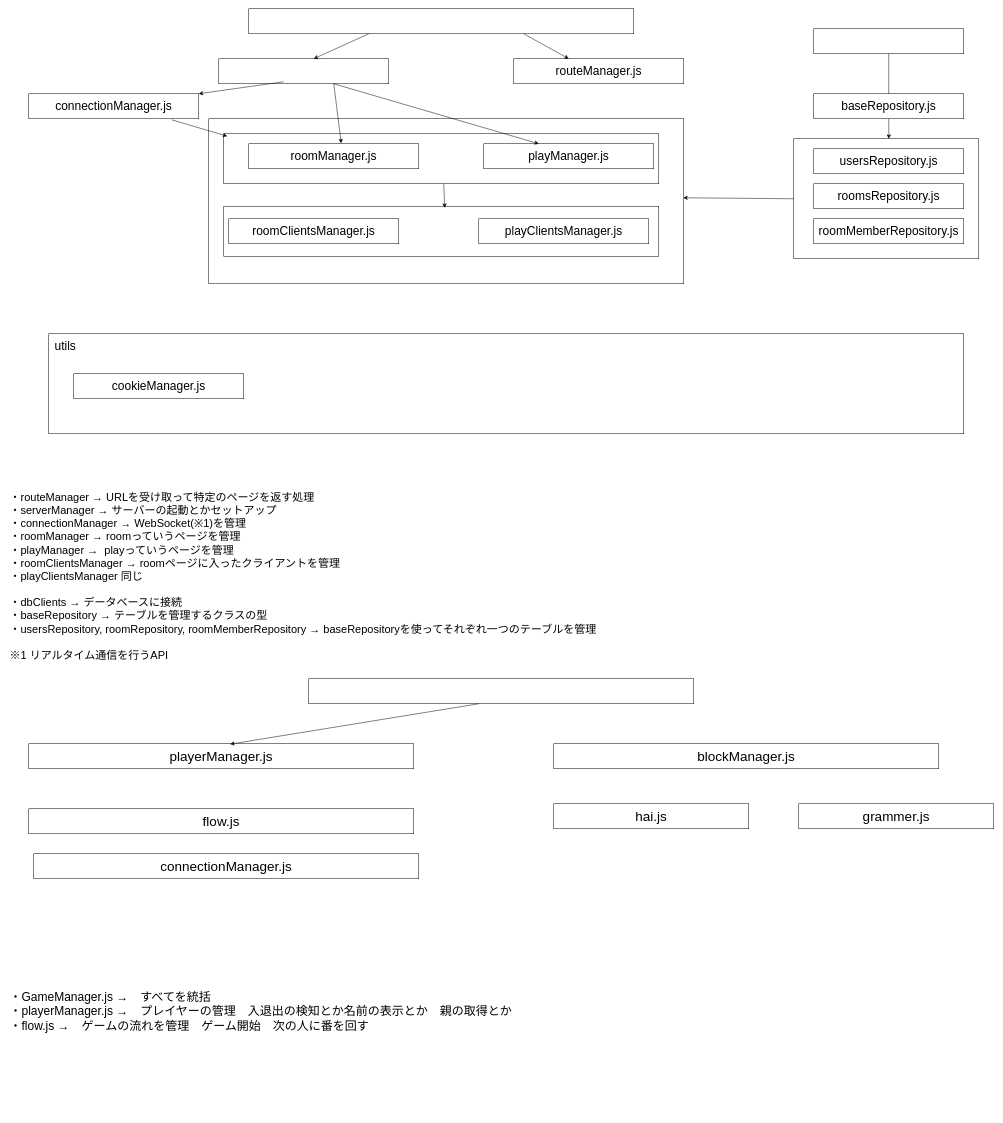
The diagram is 1003 pixels wide and 1123 high, and some of its shapes have lost their labels. Each missing label, with the centre of its shape:
app.js: (x=441, y=21)
dbClients.js: (x=888, y=41)
GameManager.js: (x=501, y=691)
serverManager.js: (x=303, y=71)
